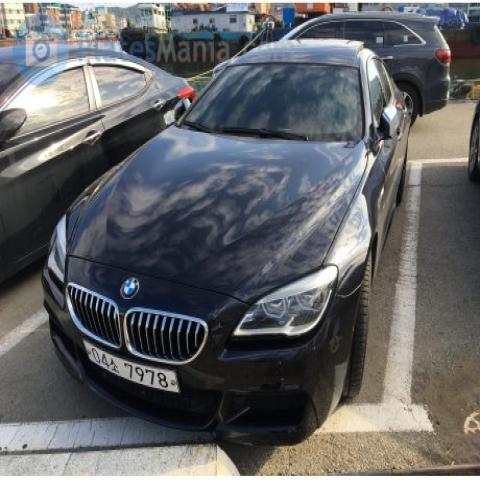LP: (79, 328, 184, 408)
